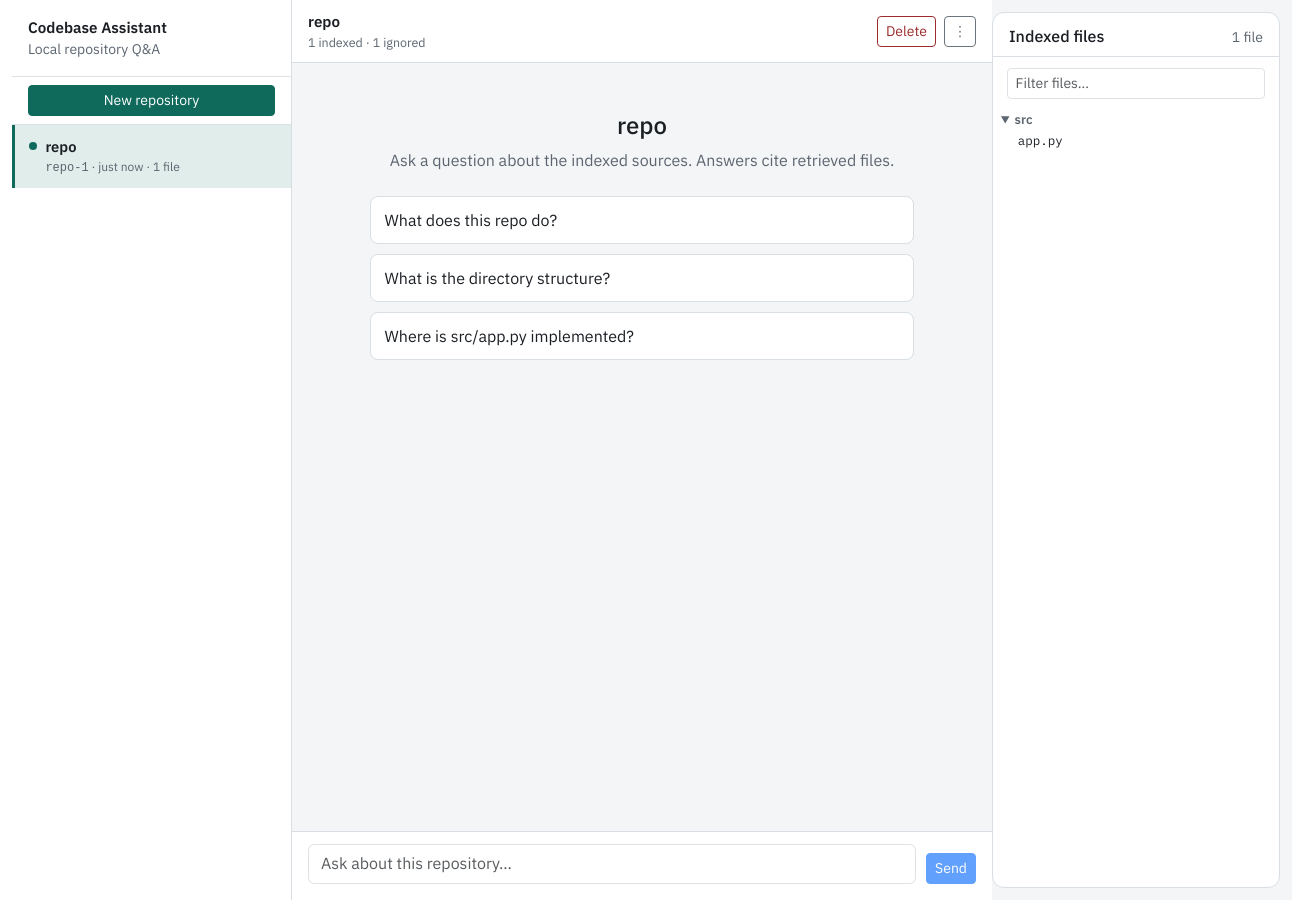
application shell › shows citations with file and lines and a copyable code block
Check: the heading "repo" is shown, box left=617, top=109, right=667, bottom=141
What coordinates should you click on to do the following:
click the button "Where is src/app.py implemented?"
I would click on:
 (509, 336)
Its box is left=370, top=312, right=914, bottom=360.
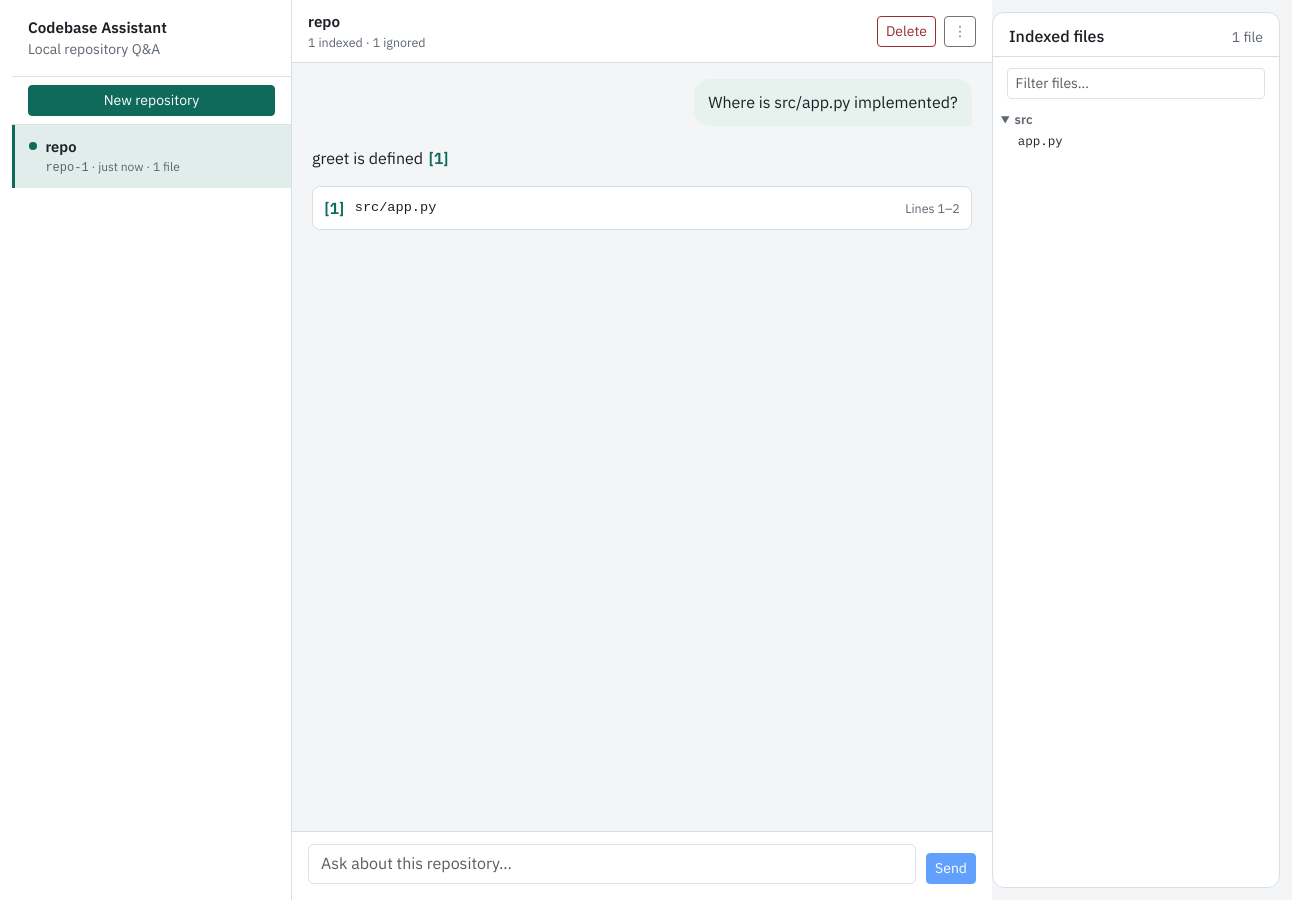
Check: the text "greet is defined [1]" is shown, box left=312, top=146, right=450, bottom=170
What coordinates should you click on to do the following:
click the button "[1] src/app.py Lines 1–2"
I would click on:
 (396, 208)
Its box is left=313, top=188, right=971, bottom=229.
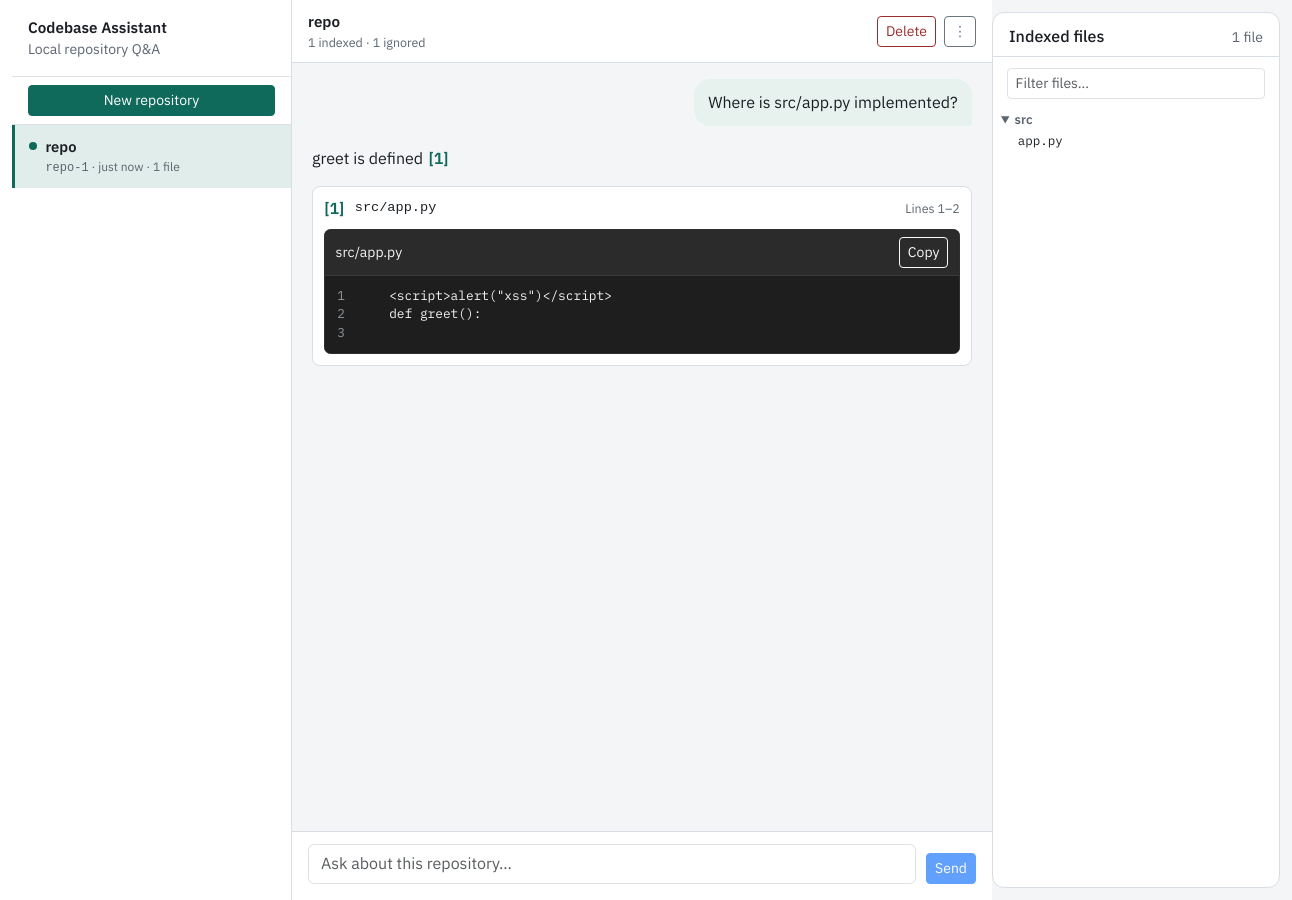
Check: the text "Lines 1–2" is shown, box left=905, top=199, right=960, bottom=218
Check: the button with aria-label "Copy source excerpt" is shown, box left=899, top=237, right=948, bottom=268
Check: the element showing "1 <script>alert(\"xss\")</script> 2 def greet(): 3" shows "<script>alert(\"xss\")</script>", box left=389, top=287, right=612, bottom=304
